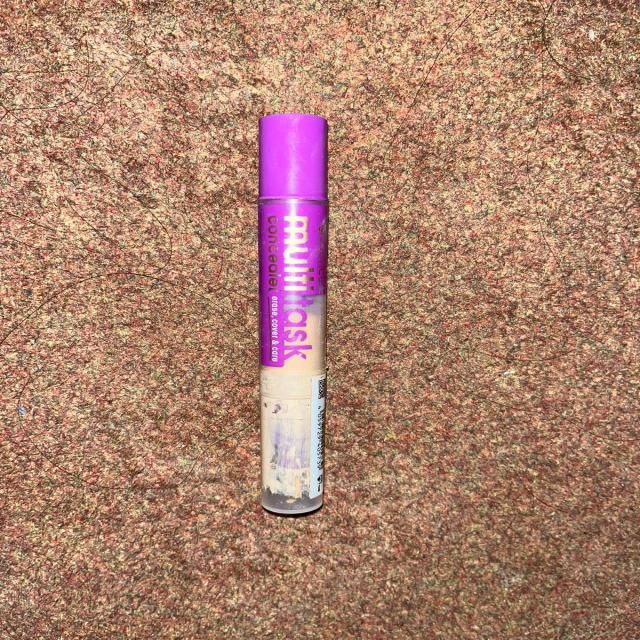lip gloss: (226, 95, 390, 538)
